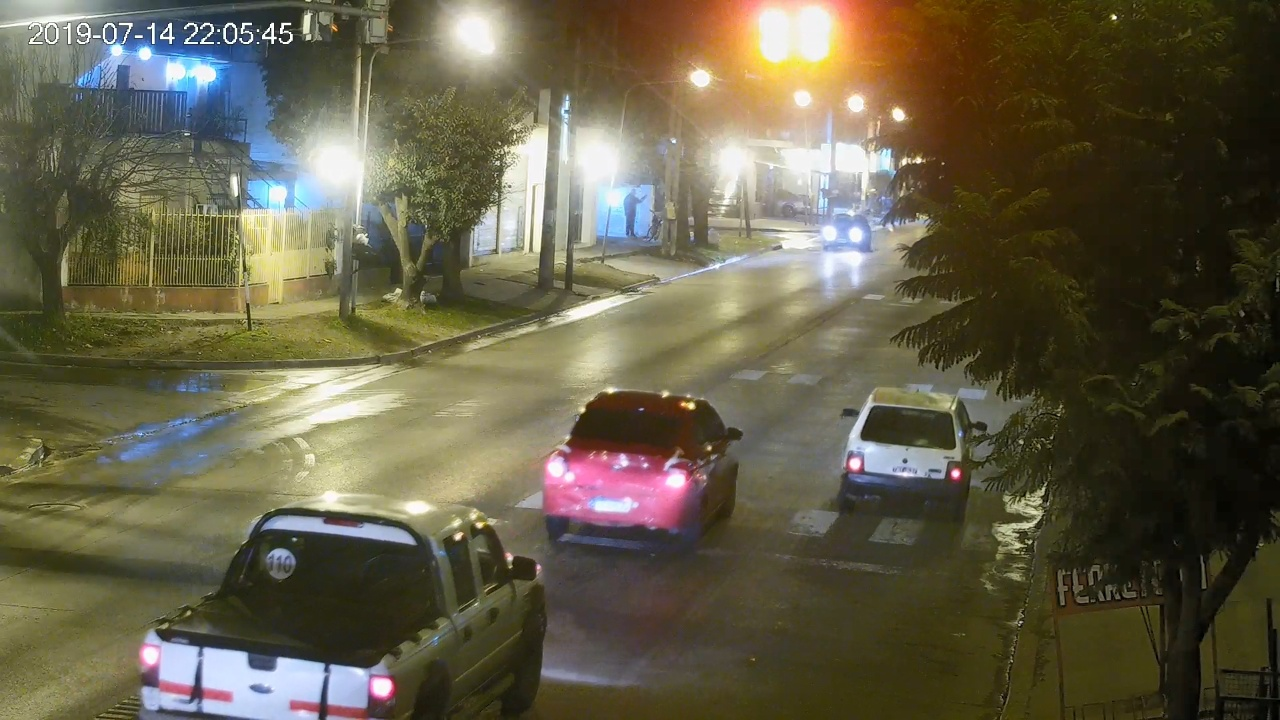car: (137, 492, 548, 720), (542, 389, 743, 549), (837, 388, 987, 518)
